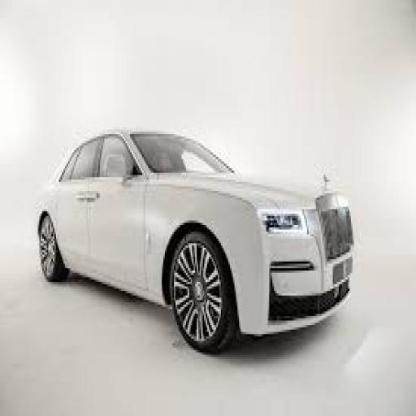car: (30, 121, 361, 363)
